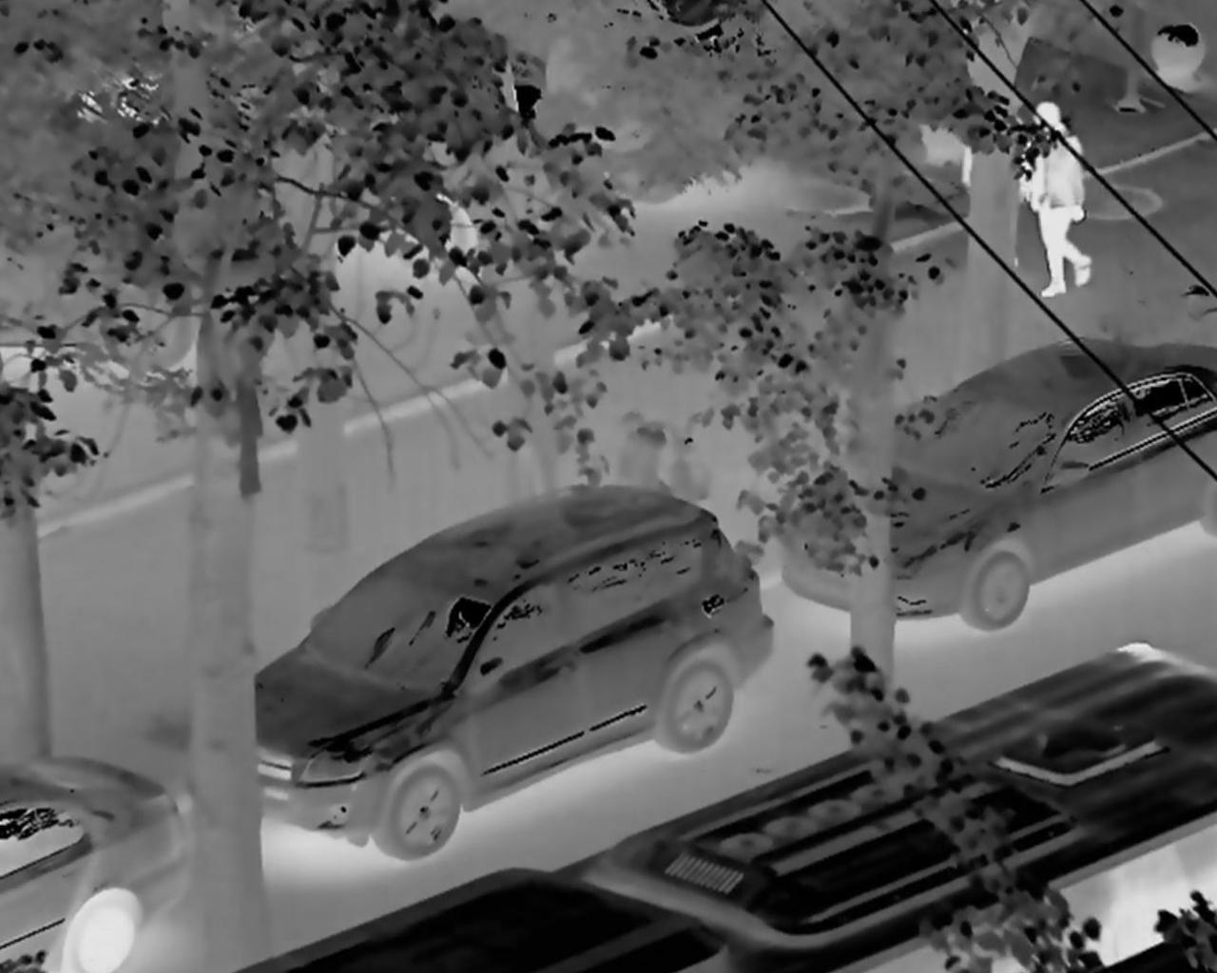person: (1019, 104, 1091, 296)
